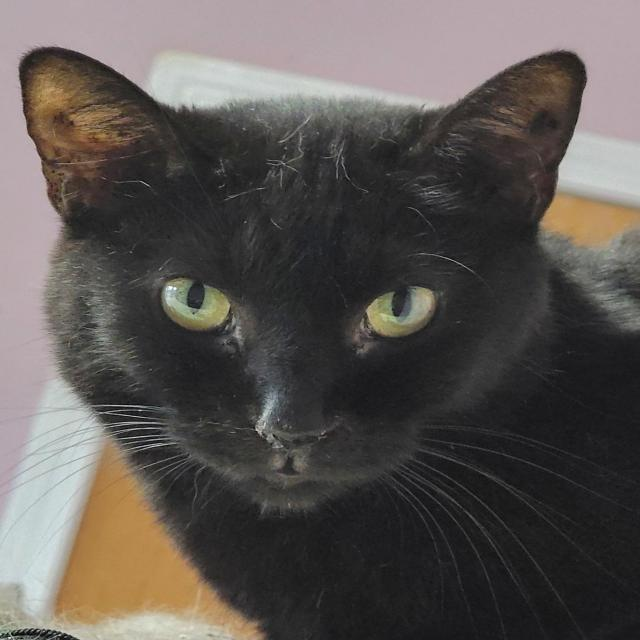bombay_cat: (11, 38, 596, 544)
